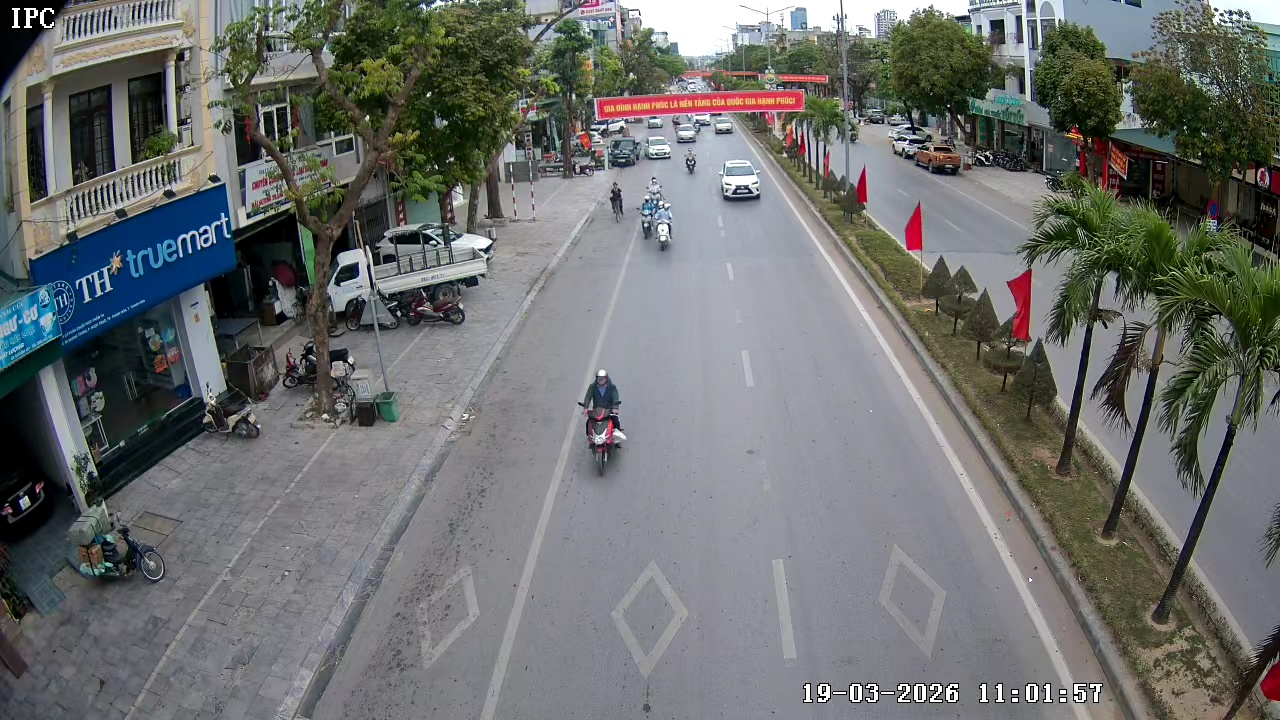bike: (606, 179, 625, 224)
car: (719, 157, 762, 201), (644, 133, 673, 161), (678, 123, 700, 144)
motorbike: (70, 501, 168, 586), (575, 366, 629, 477), (654, 199, 676, 253), (637, 186, 658, 239), (684, 145, 697, 176)
truck: (606, 133, 641, 172)
